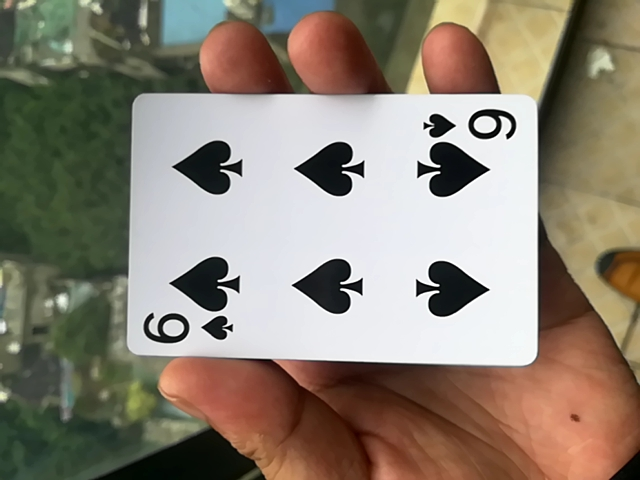ht 6: (118, 93, 539, 370)
